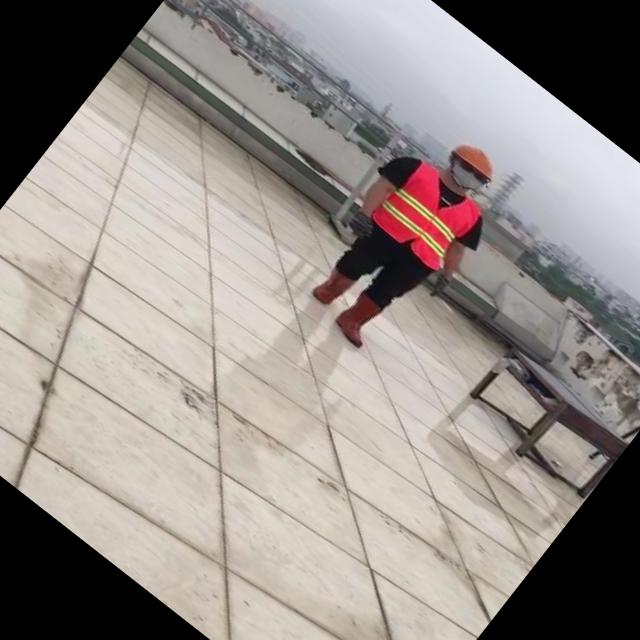hard_hat: (450, 134, 504, 184)
safety_vest: (366, 152, 488, 274)
vehicle: (264, 91, 543, 386)
work_boots: (330, 289, 388, 349), (306, 258, 359, 312)
